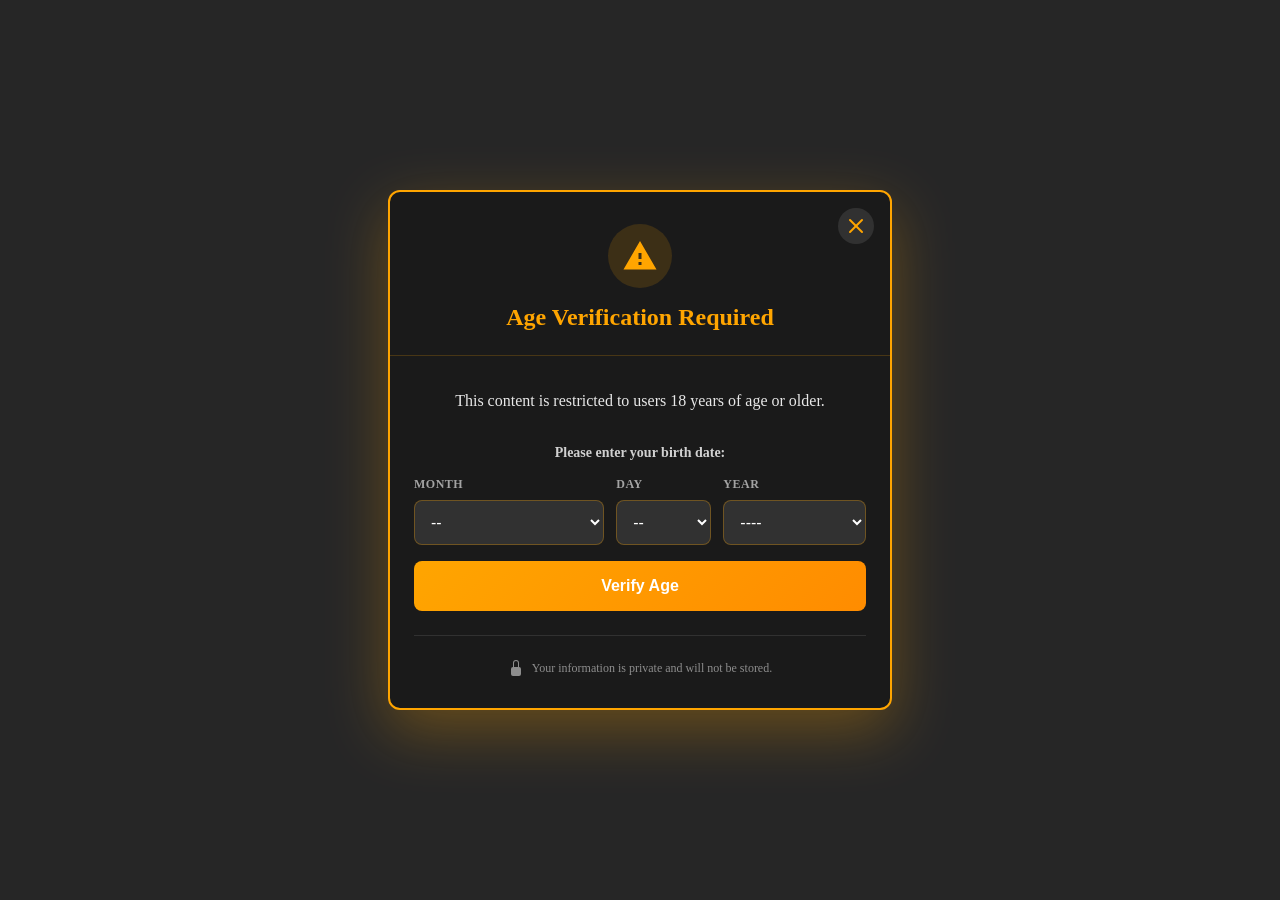
it: AgeGateComponent › validation › clears a previous error on a successful resubmit
Select "--" in the dropdown with id "birth-month". click: (509, 523)
box: top-left (414, 500), bottom-right (604, 545)
Select "--" in the dropdown with id "birth-day". click: (664, 523)
box: top-left (616, 500), bottom-right (711, 545)
Select "----" in the dropdown with id "birth-year". click: (795, 523)
box: top-left (723, 500), bottom-right (866, 545)
Click the button "Verify Age". click: (640, 586)
box: top-left (414, 561), bottom-right (866, 611)
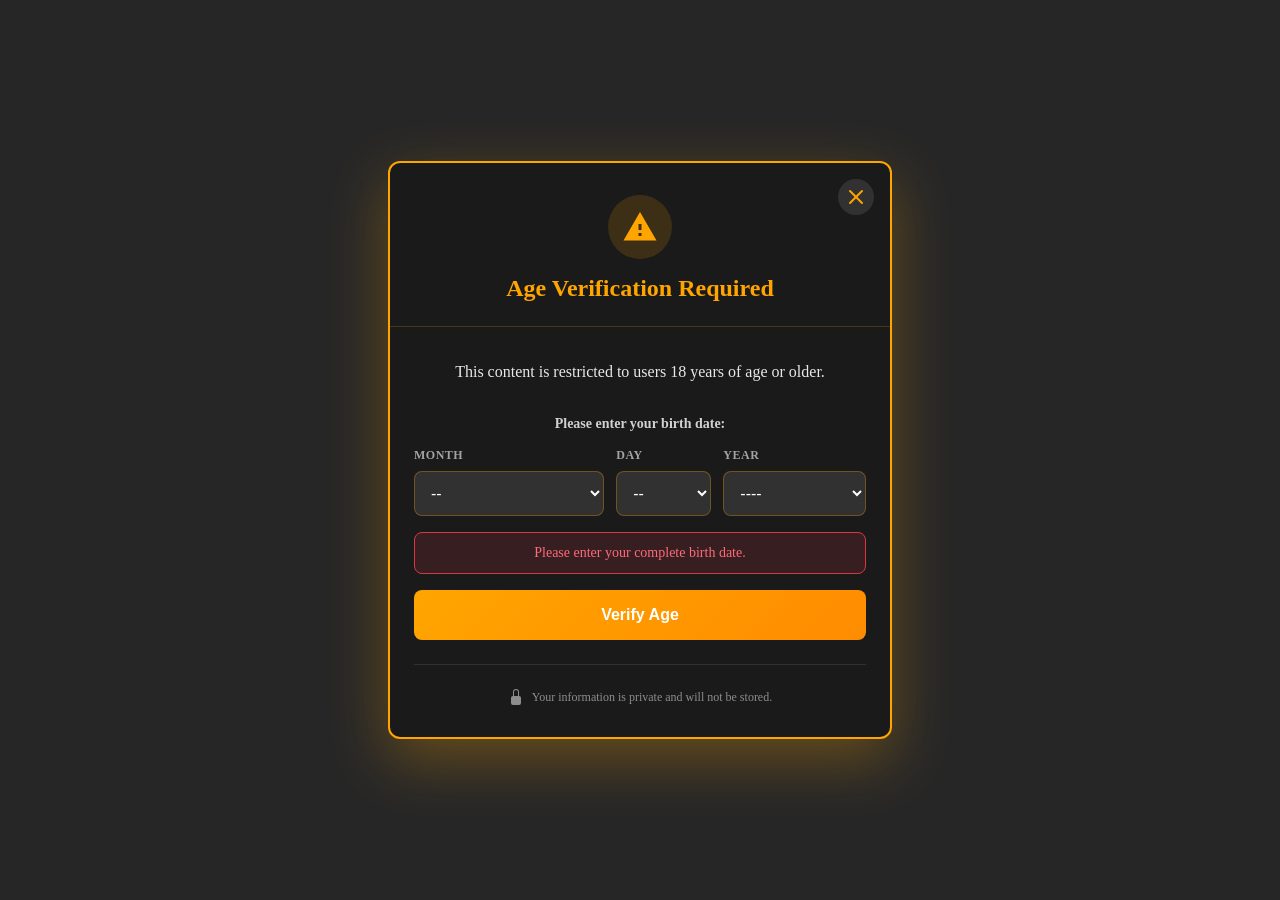
Select "October" in the dropdown with id "birth-month". click: (509, 494)
box: top-left (414, 471), bottom-right (604, 516)
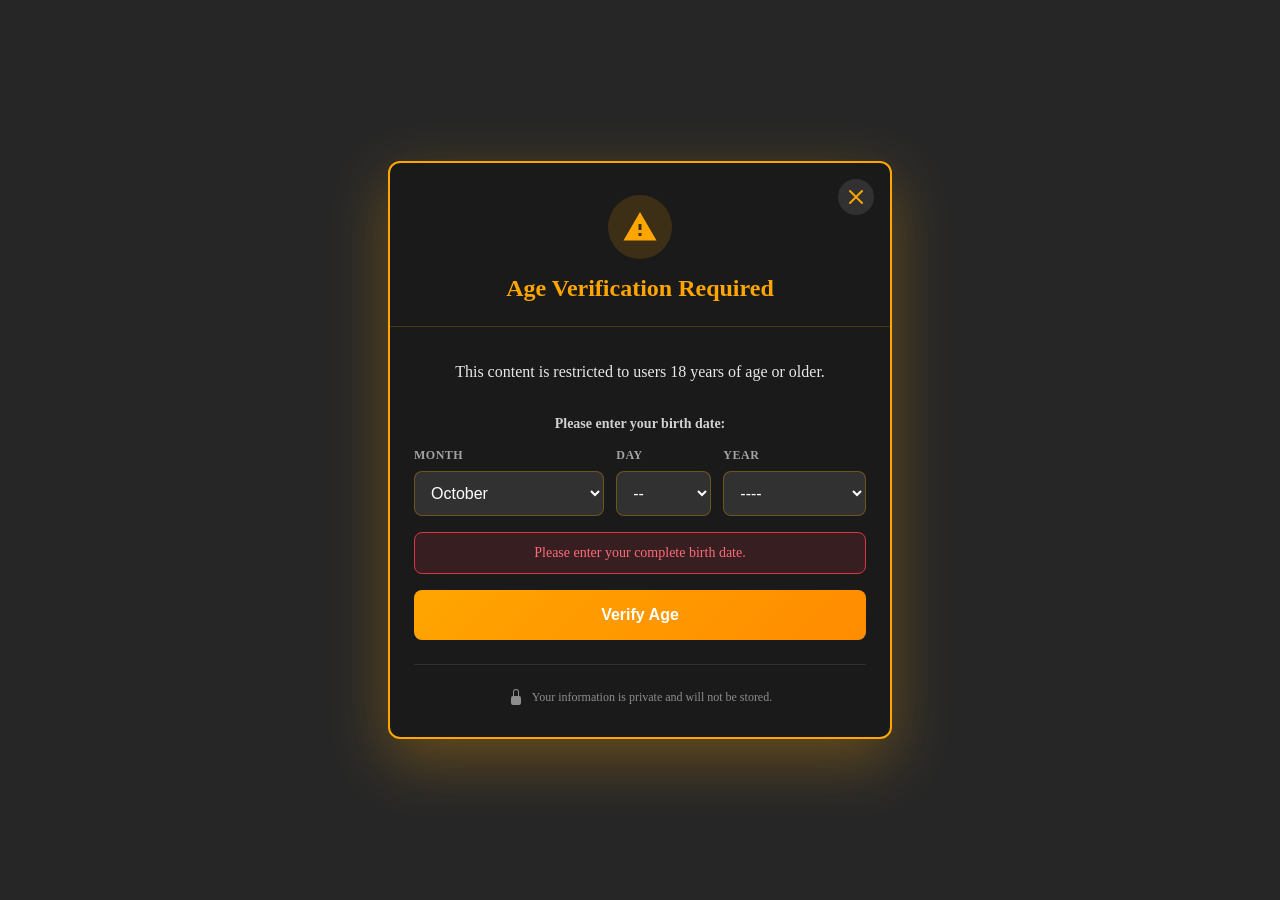
Select "31" in the dropdown with id "birth-day". click: (664, 494)
box: top-left (616, 471), bottom-right (711, 516)
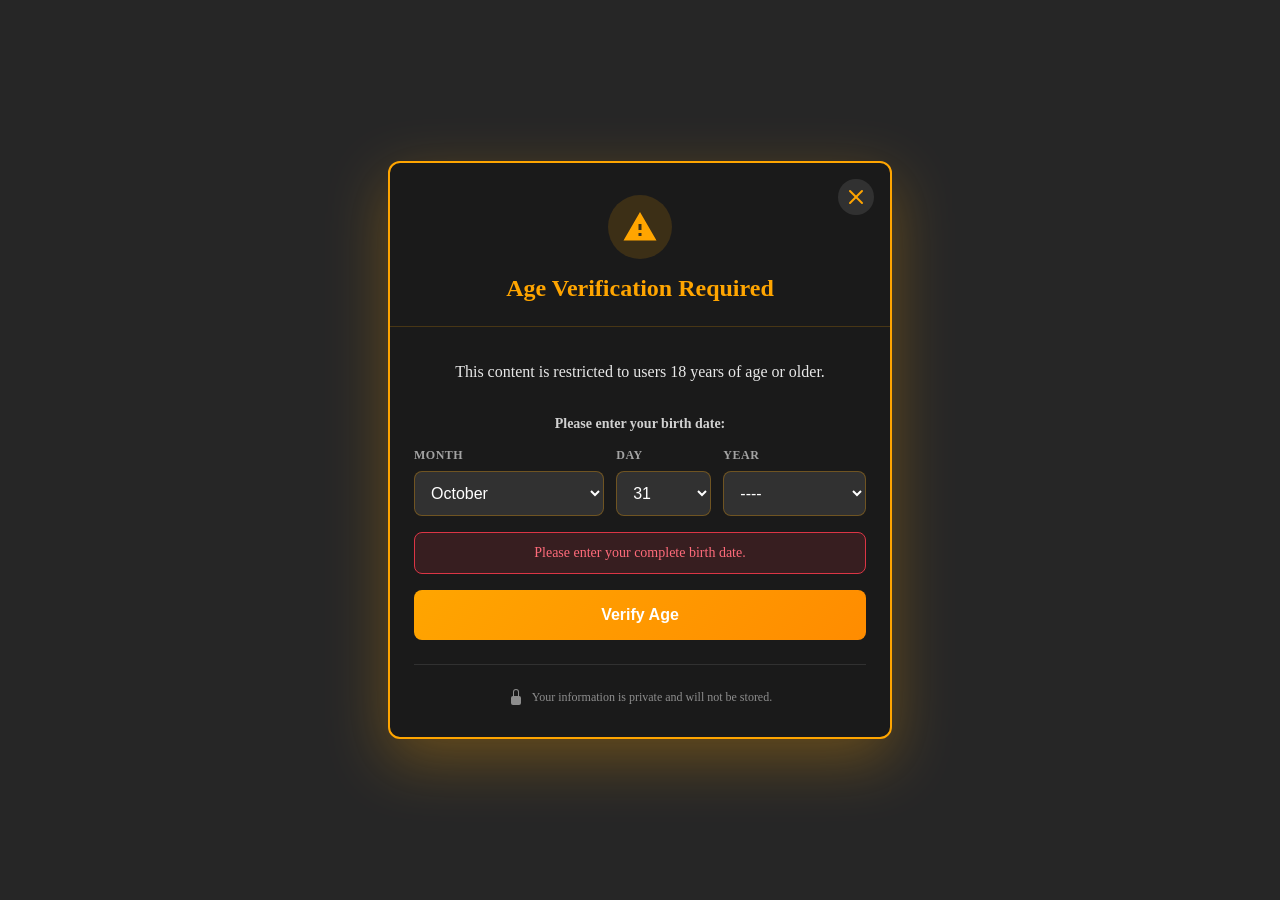
Select "1996" in the dropdown with id "birth-year". click: (795, 494)
box: top-left (723, 471), bottom-right (866, 516)
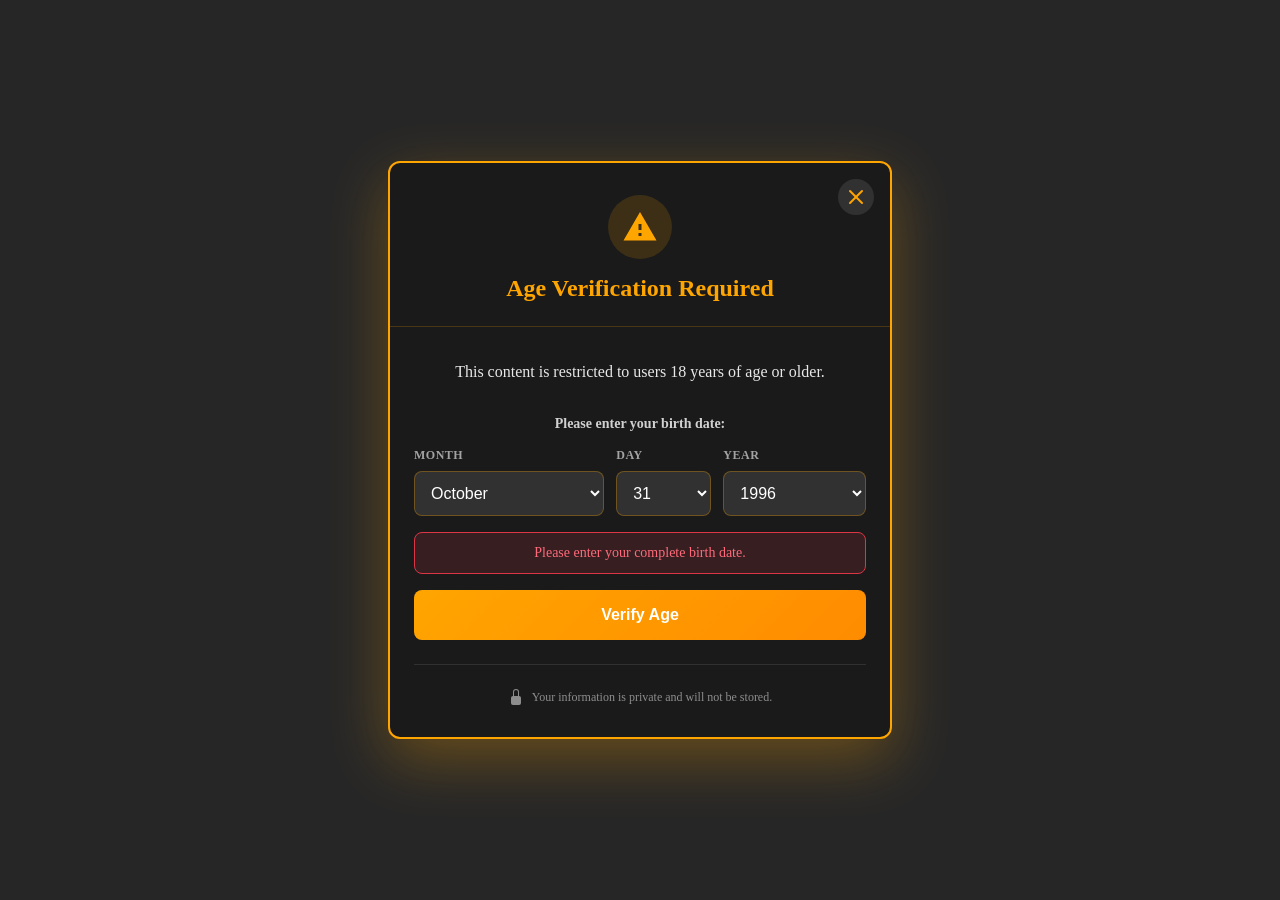
Click the button "Verify Age". click: (640, 615)
box: top-left (414, 590), bottom-right (866, 640)
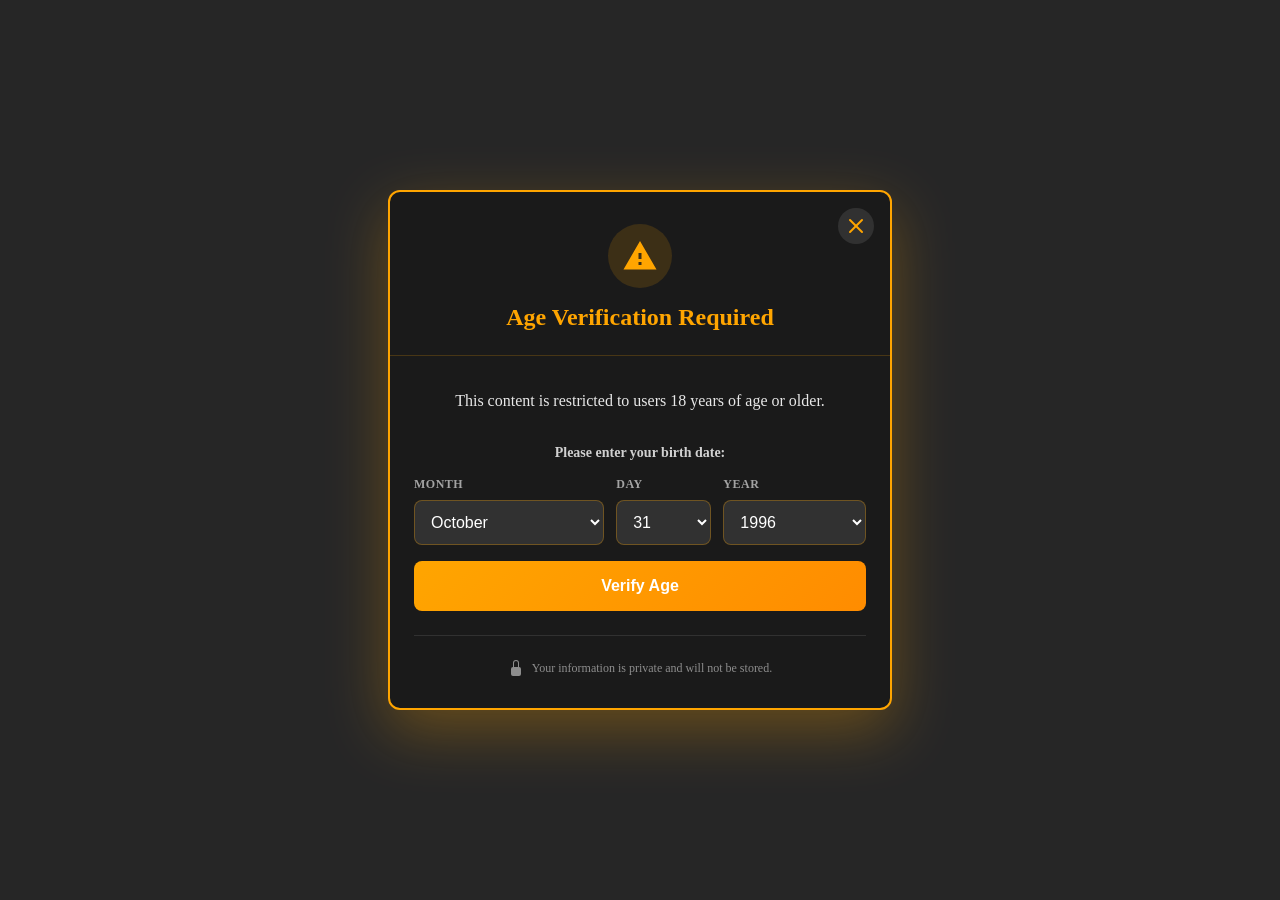
Now the message with class "error-message" is gone
